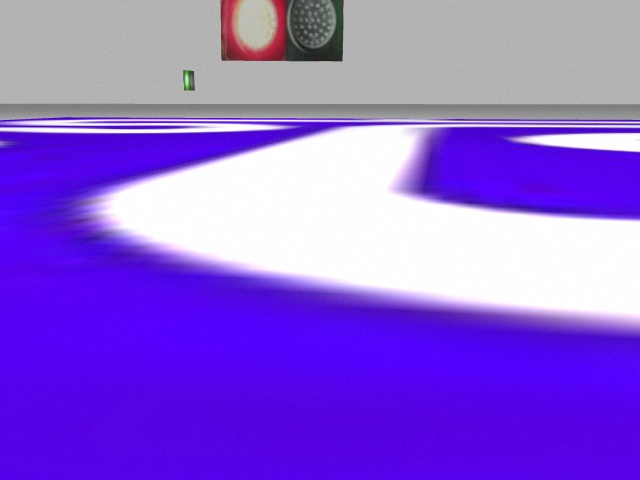red: (221, 3, 287, 63)
